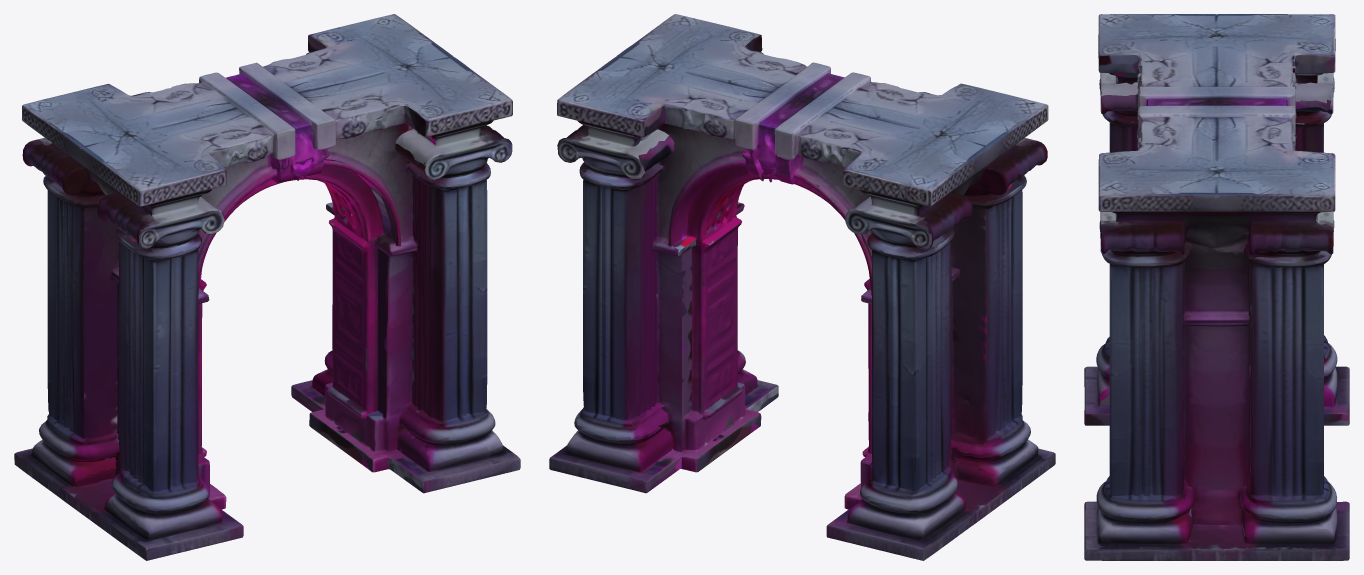
The model's file is support-column-generated-2026-05-17T18-31-11-487Z.high.glb.
The picture shows the model from 3 angles, left to right: view 1: azimuth 30°, elevation 25°; view 2: azimuth 150°, elevation 25°; view 3: azimuth 270°, elevation 25°; orthographic projection.
Visible parts, largest first — view 1: temp_mesh.ply; view 2: temp_mesh.ply; view 3: temp_mesh.ply.
Part boxes in pixels (x1,y1,x2,y2): temp_mesh.ply: (14,14,520,560); temp_mesh.ply: (549,14,1055,560); temp_mesh.ply: (1084,14,1349,560).
Size of the model in its own units: 1.98 by 1.86 by 1.21.
1 material, 1 textured.
